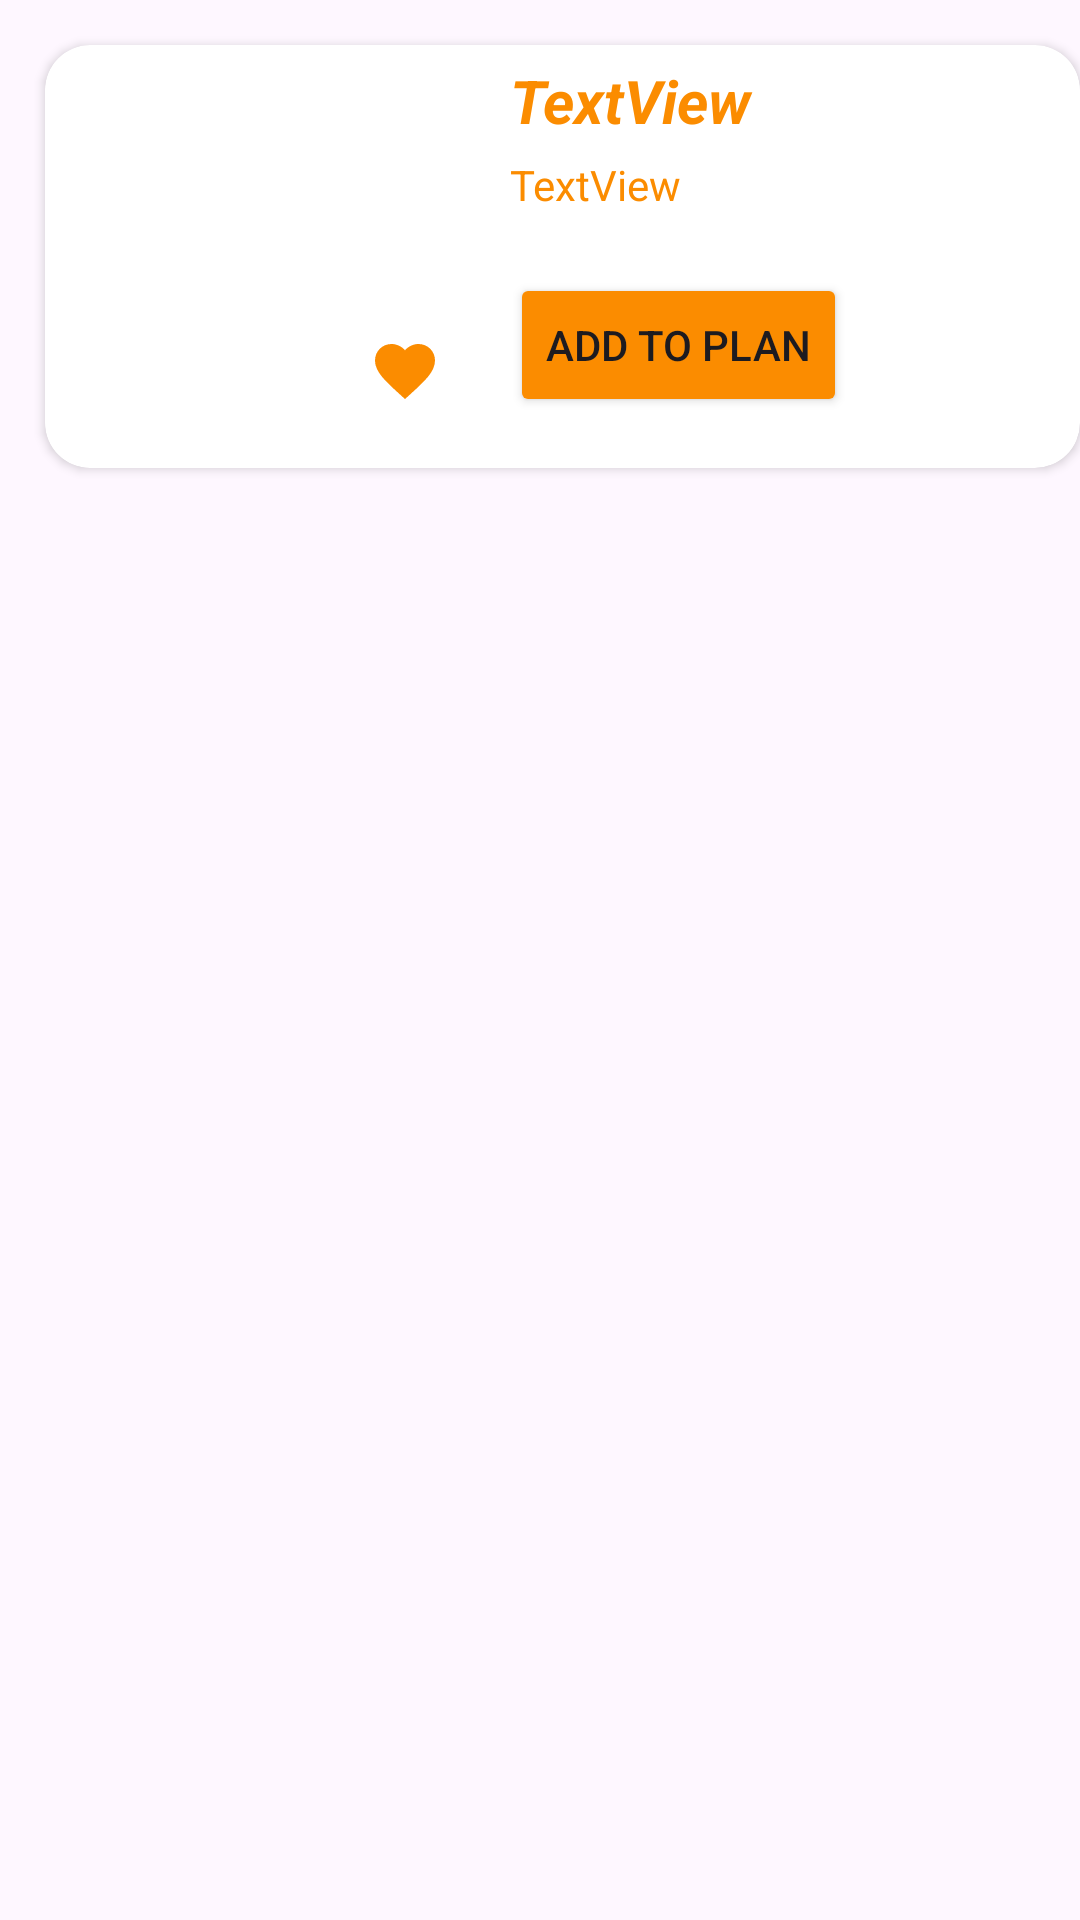

Icons on this 1080×1920 Android screen, each with the point to tap as (x=x, y=y):
favorite: (x=405, y=371)
